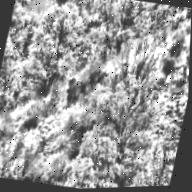boar: (63, 74, 87, 112), (78, 75, 94, 103), (89, 65, 104, 93)
